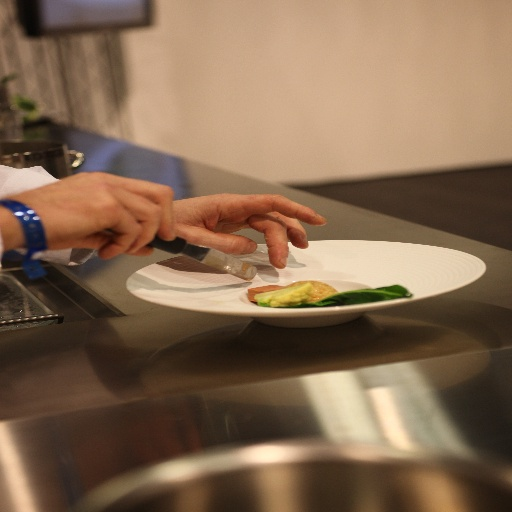hand: (31, 167, 194, 263), (171, 190, 327, 267)
